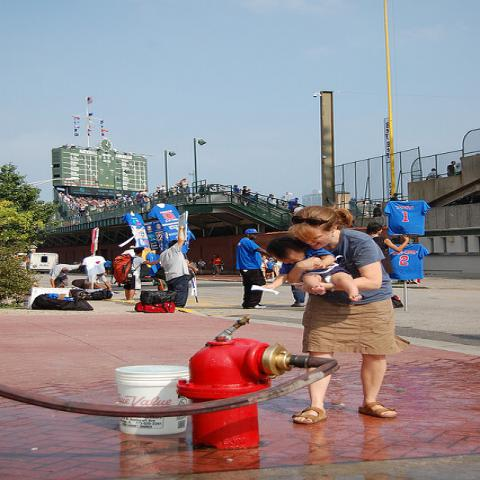truck: (28, 253, 58, 275)
